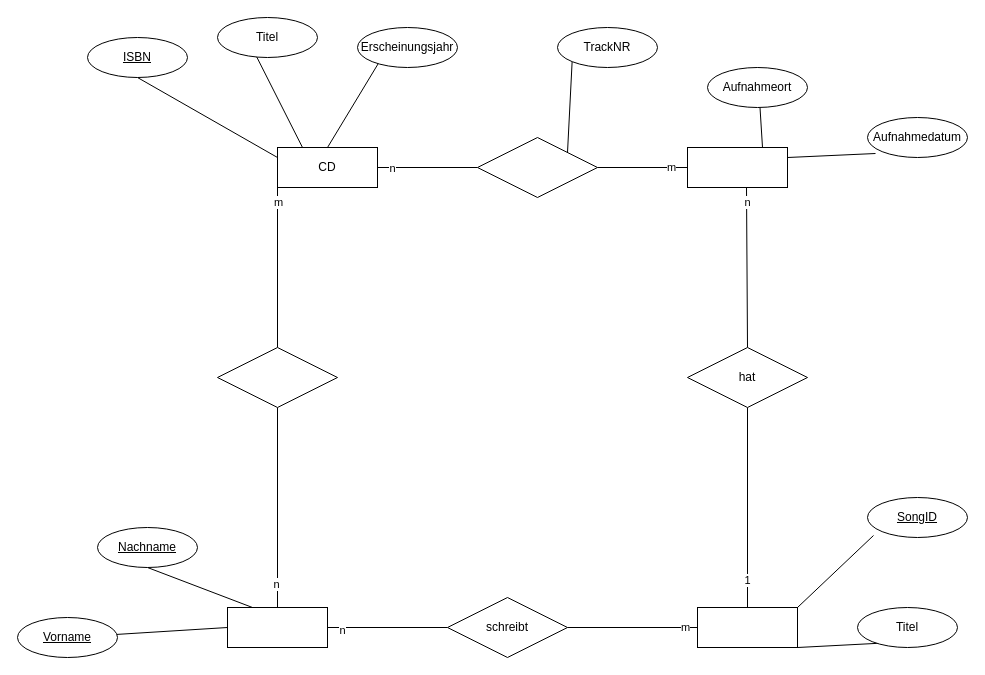
This 985x675 diagram has some shape labels left out. Each missing label, with the centre of its shape:
"auf" goes at (x=537, y=167).
"Aufnahme" goes at (x=737, y=167).
"gibt_heraus" goes at (x=277, y=377).
"Künstler" goes at (x=277, y=627).
"Song" goes at (x=747, y=627).
